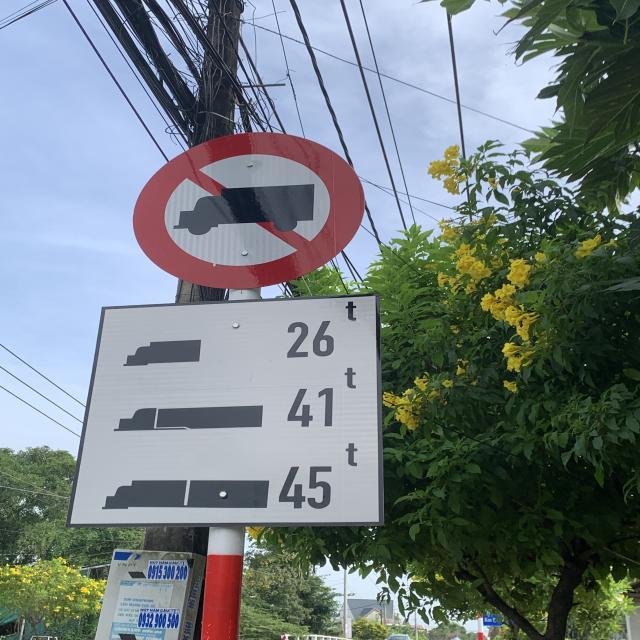Cam_Xe_Tai: (136, 131, 364, 292)
